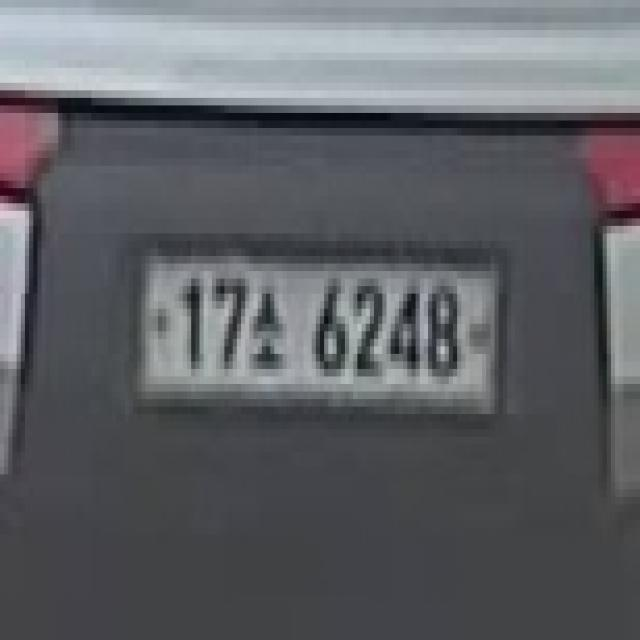1: (175, 271, 208, 392)
2: (349, 279, 391, 384)
4: (391, 271, 424, 392)
6: (312, 271, 349, 384)
7: (212, 264, 249, 384)
8: (424, 271, 465, 384)
license_plate: (133, 218, 511, 444)
so: (245, 279, 287, 384)
